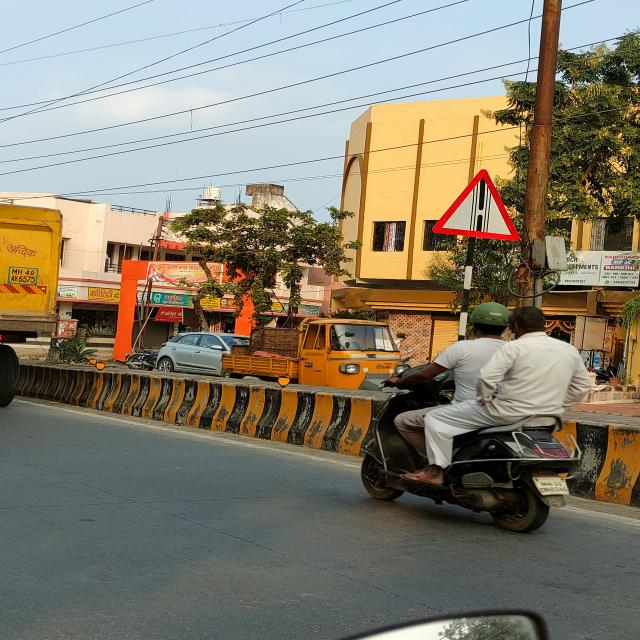ferry: (432, 170, 518, 242)
